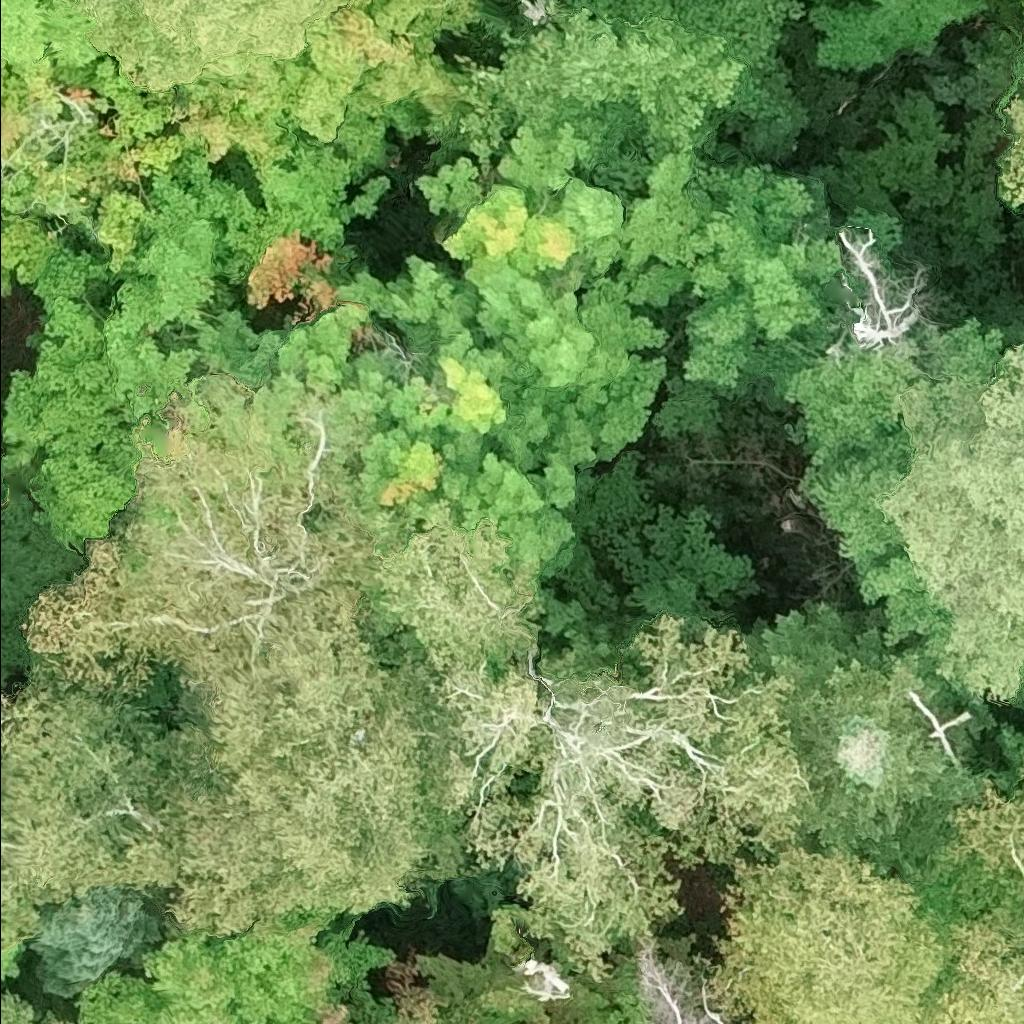crown: (165, 123, 667, 591), (384, 508, 809, 983), (429, 17, 847, 387), (29, 371, 410, 732), (0, 62, 271, 554), (123, 634, 516, 939), (709, 775, 1023, 1023), (191, 0, 489, 246), (880, 342, 1023, 702), (0, 664, 175, 951), (71, 909, 396, 1023), (84, 0, 363, 99), (28, 885, 165, 998), (812, 0, 982, 70), (832, 226, 919, 360), (0, 0, 122, 86), (638, 933, 726, 1023), (375, 961, 456, 1023), (996, 52, 1023, 203), (0, 988, 70, 1023), (513, 964, 571, 1003), (0, 945, 19, 980), (320, 1003, 353, 1023), (0, 430, 0, 445)
